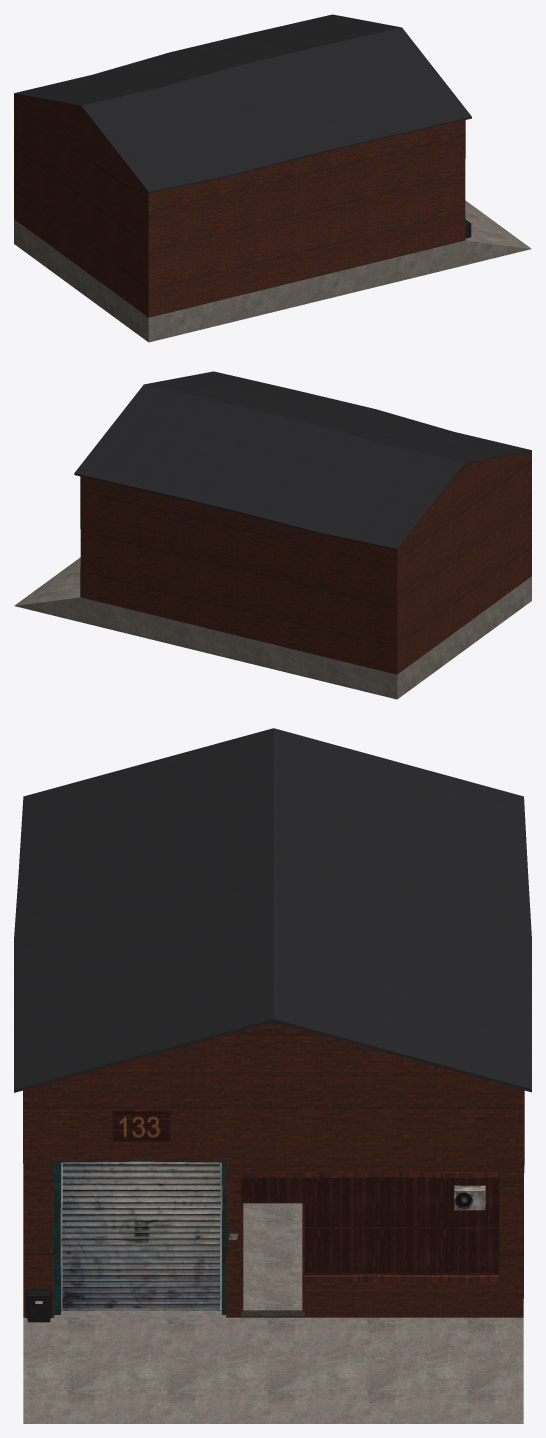
Rendered from Warehouseexport.fbx.
3 renders of one model, top to bottom at view 1: azimuth 30°, elevation 25°; view 2: azimuth 150°, elevation 25°; view 3: azimuth 270°, elevation 25°, orthographic. The views are drawn at different scales.
Visible parts, largest first — view 1: Warehouse.001, Strecha.001, Podlaha.001; view 2: Warehouse.001, Strecha.001, Podlaha.001; view 3: Strecha.001, Warehouse.001, Podlaha.001.
Part boxes in pixels (x1=…): Warehouse.001: x1=14, y1=94, x2=471, y2=317; Strecha.001: x1=14, y1=14, x2=471, y2=193; Podlaha.001: x1=14, y1=200, x2=531, y2=342; Warehouse.001: x1=80, y1=452, x2=531, y2=674; Strecha.001: x1=74, y1=371, x2=531, y2=550; Podlaha.001: x1=14, y1=557, x2=531, y2=699; Strecha.001: x1=14, y1=728, x2=531, y2=1092; Warehouse.001: x1=23, y1=1022, x2=524, y2=1322; Podlaha.001: x1=23, y1=1203, x2=523, y2=1423.
Bounding box in the file's own units: 1663 × 785 × 1048.
